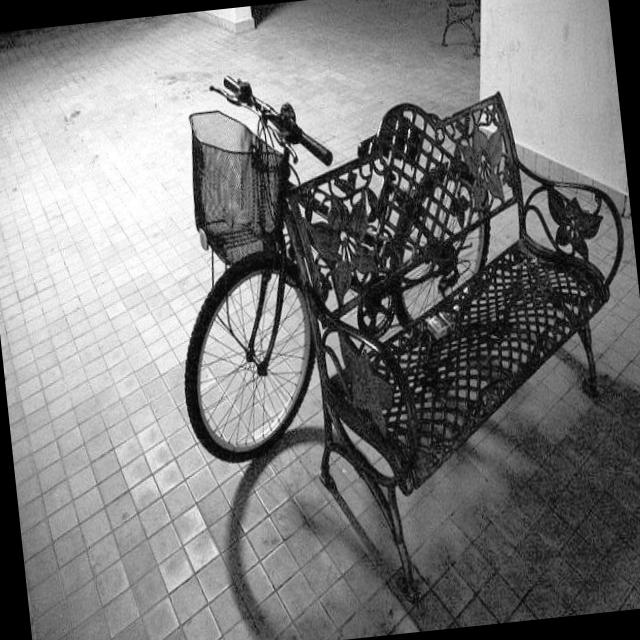Bicycle: (131, 83, 518, 482)
